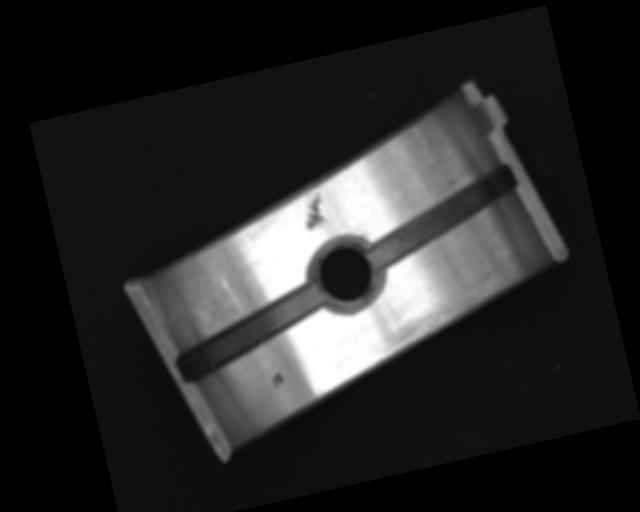blot: (270, 371, 285, 391)
bruise: (299, 190, 329, 231)
gap: (356, 164, 527, 269), (168, 283, 333, 382)
hole: (305, 232, 387, 318)
nick: (217, 270, 243, 317)
scratch: (369, 264, 522, 360)
